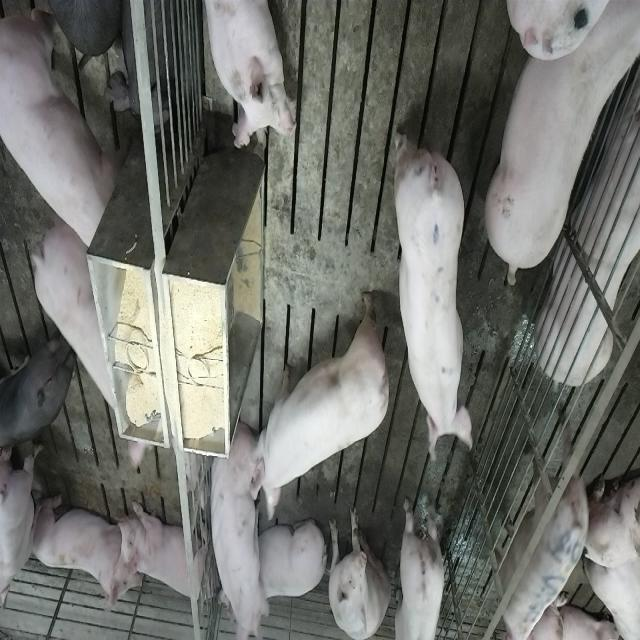Feeding: (255, 290, 394, 528)
Sitting: (206, 422, 268, 640), (326, 502, 392, 640)
Standing: (1, 6, 120, 254), (386, 110, 468, 458), (490, 432, 586, 640), (29, 212, 117, 417), (0, 327, 74, 453), (392, 494, 447, 638)
Sternal_lying: (538, 59, 640, 390), (29, 491, 139, 621), (201, 0, 294, 152), (118, 500, 215, 610), (253, 516, 325, 610)
